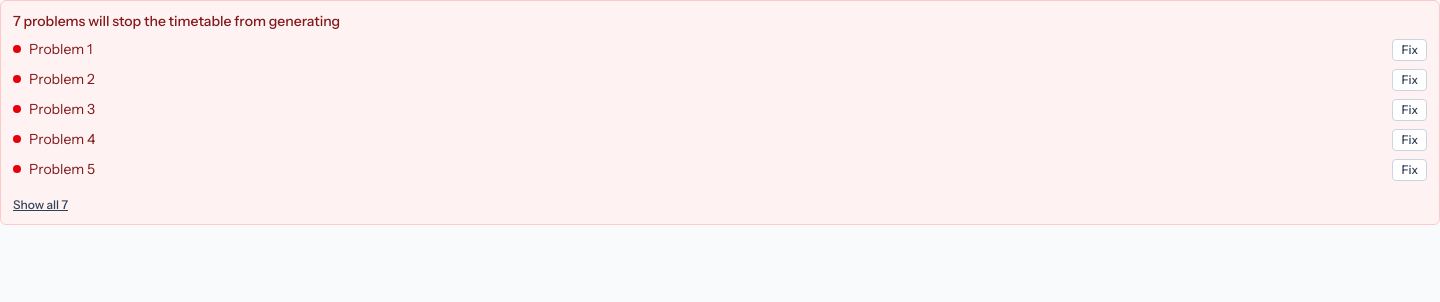
Test: a long list › shows five, then all on request
The width and height of the screenshot is (1440, 302).
Check: the text "Problem 6" is not shown
Click the button "Show all 7" at (40, 205), box x1=13 y1=197 x2=68 y2=213
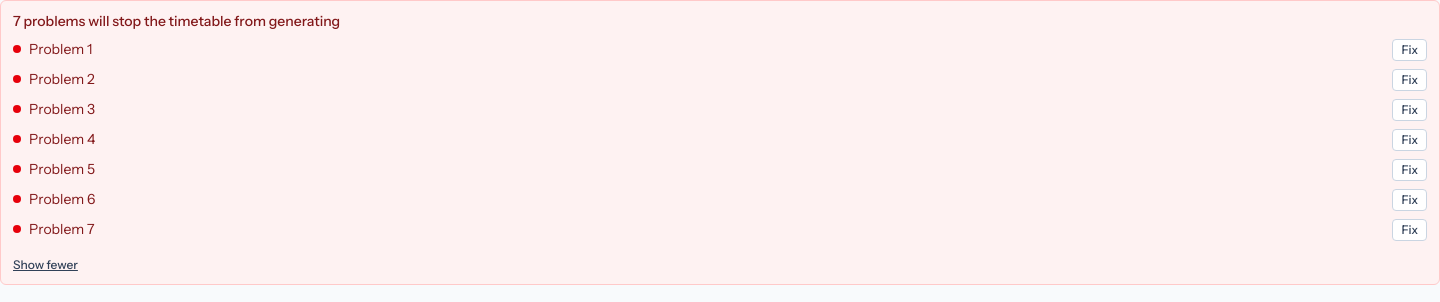
Check: the text "Problem 7" is shown, box x1=29 y1=219 x2=94 y2=239
